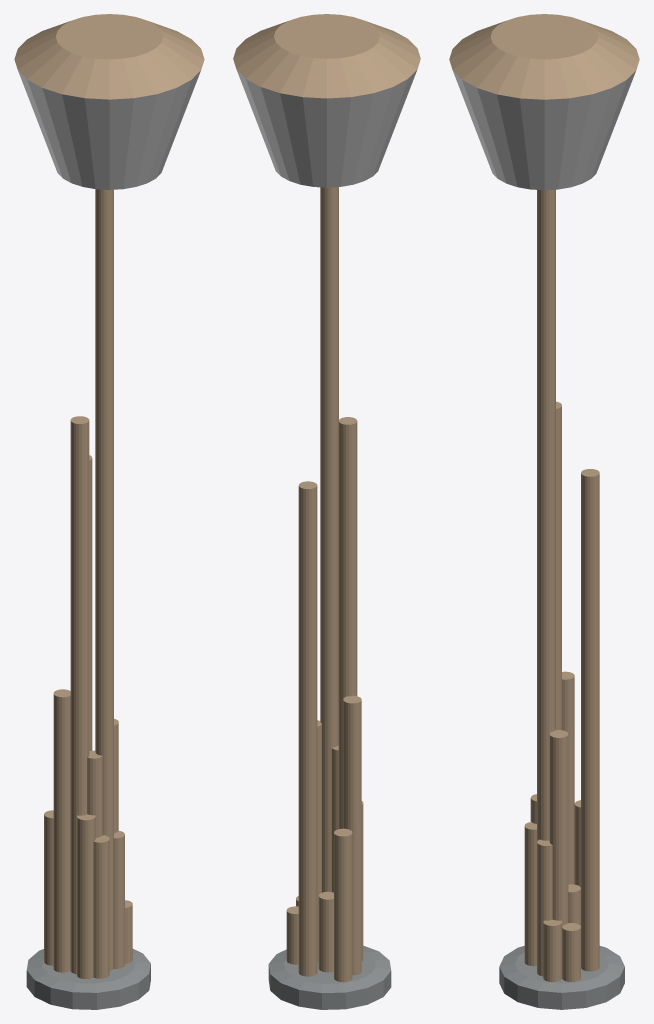
File: Old Street Lamp.glb
3 renders of one model, left to right at view 1: azimuth 30°, elevation 25°; view 2: azimuth 150°, elevation 25°; view 3: azimuth 270°, elevation 25°, orthographic.
Parts seen in each view (by area): view 1: Mesh_Mesh_head_geo.001_lambert2SG.001; view 2: Mesh_Mesh_head_geo.001_lambert2SG.001; view 3: Mesh_Mesh_head_geo.001_lambert2SG.001.
Boxes of the visible parts, x1=… form: Mesh_Mesh_head_geo.001_lambert2SG.001: x1=14, y1=14, x2=204, y2=1009; Mesh_Mesh_head_geo.001_lambert2SG.001: x1=233, y1=14, x2=420, y2=1009; Mesh_Mesh_head_geo.001_lambert2SG.001: x1=449, y1=14, x2=639, y2=1009.
Bounding box in the file's own units: 30.37 × 168 × 30.37.
